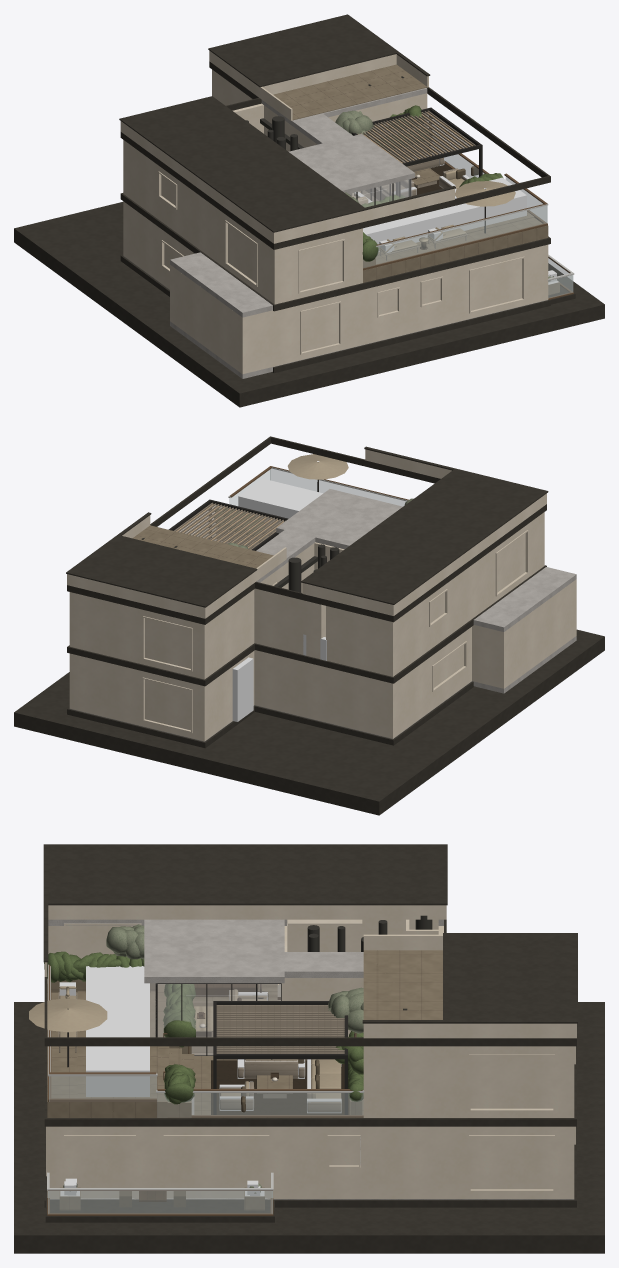
File: foakh-penthouse.glb
The picture shows the model from 3 angles, top to bottom: view 1: azimuth 30°, elevation 25°; view 2: azimuth 150°, elevation 25°; view 3: azimuth 270°, elevation 25°; orthographic projection. The views are drawn at different scales.
Visible parts, largest first — view 1: BASE_Plinth, PARAPET_Coping, W11_EXT_S, PARAPET_Roof, W12_EXT_W, FASCIA_ROOF, ROOF_12F_Lobby, W11_EXTSTAIR_W, ROOF_Finish, POOL_DeckPlatform, RAIL_12F_PoolDeck_Glass, PERGOLA_Slats (+24 smaller); view 2: BASE_Plinth, PARAPET_Coping, W11_EXT_N_low, PARAPET_Roof, W12_EXT_W, FASCIA_ROOF, W12_NB_N, W11_NB_N, W11_EXTSTAIR_W, ROOF_12F_Lobby, SC_Duct_N_12F, W12_EXT_N (+22 smaller); view 3: PARAPET_Coping, BASE_Plinth, W11_EXT_E, PARAPET_Roof, W12_NB_E, ROOF_12F_Lobby, COL_GUARD_Pool, W11_Lounge_E_Glass, ROOF_Finish, FASCIA_ROOF, FASCIA_12F, RAIL_11F_Balcony_Glass (+39 smaller).
Boxes of the visible parts, x1,y1,x2,y2 form: BASE_Plinth: (14, 202, 604, 407); PARAPET_Coping: (119, 14, 455, 232); W11_EXT_S: (274, 244, 548, 366); PARAPET_Roof: (120, 50, 454, 243); W12_EXT_W: (125, 141, 274, 302); FASCIA_ROOF: (120, 61, 550, 249); ROOF_12F_Lobby: (288, 134, 415, 193); W11_EXTSTAIR_W: (170, 265, 242, 373); ROOF_Finish: (273, 64, 427, 120); POOL_DeckPlatform: (363, 218, 548, 282); RAIL_12F_PoolDeck_Glass: (363, 177, 547, 267); PERGOLA_Slats: (357, 110, 475, 163); BASE_Plinth: (14, 629, 604, 815); PARAPET_Coping: (66, 446, 548, 607); W11_EXT_N_low: (254, 650, 394, 738); PARAPET_Roof: (67, 449, 546, 618); W12_EXT_W: (389, 514, 542, 676); FASCIA_ROOF: (67, 436, 546, 624); W12_NB_N: (69, 593, 206, 679); W11_NB_N: (70, 654, 206, 741); W11_EXTSTAIR_W: (500, 581, 576, 688); ROOF_12F_Lobby: (276, 489, 402, 549); SC_Duct_N_12F: (254, 588, 323, 658); W12_EXT_N: (329, 607, 394, 676); PARAPET_Coping: (43, 844, 577, 1023); BASE_Plinth: (14, 1002, 604, 1253); W11_EXT_E: (53, 1126, 568, 1198); PARAPET_Roof: (44, 905, 576, 1038); W12_NB_E: (369, 1046, 568, 1117); ROOF_12F_Lobby: (144, 919, 284, 983); COL_GUARD_Pool: (86, 966, 149, 1096); W11_Lounge_E_Glass: (165, 1137, 267, 1198); ROOF_Finish: (363, 950, 442, 1019); FASCIA_ROOF: (44, 919, 576, 1046); FASCIA_12F: (44, 1046, 576, 1126); RAIL_11F_Balcony_Glass: (48, 1191, 272, 1214).
Size of the model in its own units: 19.9 by 8.15 by 21.3.
66 materials, 48 textured.
